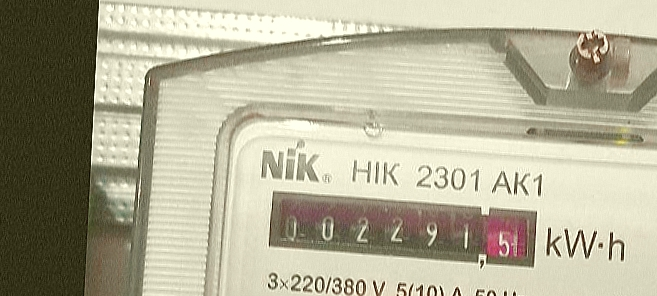0: (279, 210, 299, 240), (317, 212, 335, 241)
1: (456, 218, 472, 252)
2: (352, 213, 370, 243), (387, 213, 403, 243)
5: (494, 227, 511, 257)
9: (421, 217, 439, 248)
screen: (261, 184, 542, 274)
